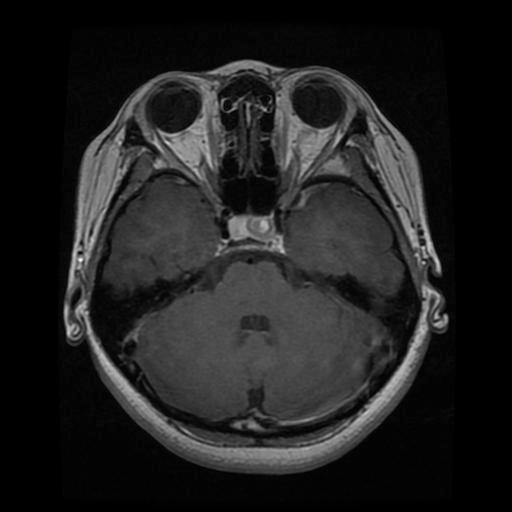Tumour-Pituitary: (208, 209, 302, 266)
